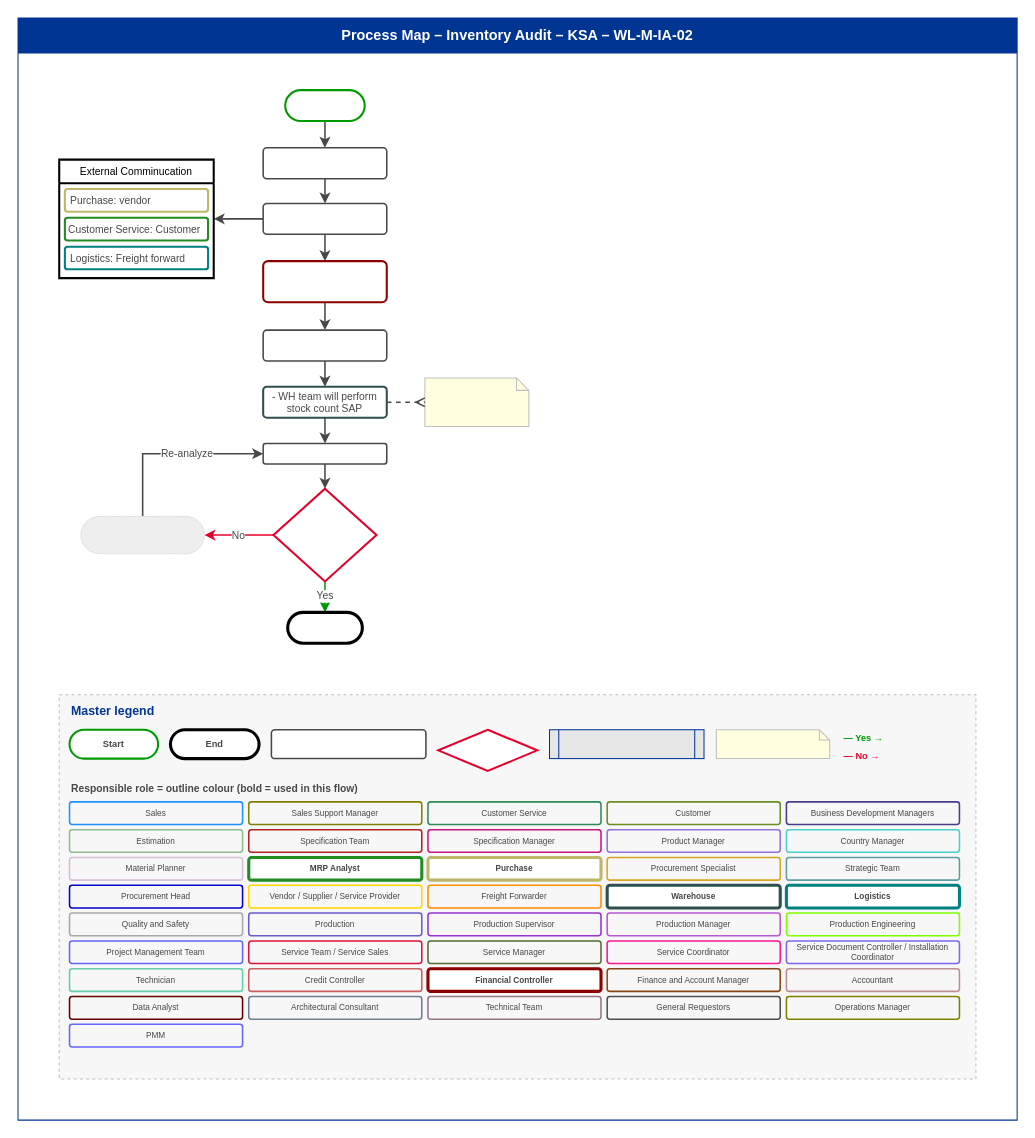
This 1035x1138 diagram has some shape labels left out. The centre of each missing label's shape, as x and y in pixels:
"Activity (outline = role)" belongs at point (348, 744).
"All OK ?" belongs at point (324, 534).
"Analyze the difference" belongs at point (324, 453).
"AUDIT" belongs at point (324, 105).
"CORRECTION Ref S#: WL-S-SC-01" belongs at point (142, 534).
"Decision" belongs at point (487, 749).
"EXIT" belongs at point (324, 627).
"Finance will download Current Stock report & Block all transactions" belongs at point (324, 281).
"Hired External Auditor will perform random checks." belongs at point (476, 401).
"Inventory document is created and printed" belongs at point (324, 345).
"Linked process (Ref ID)" belongs at point (626, 744).
"Note / checklist" belongs at point (772, 744).
"Notify Logistics, CS, Purchase Team" belongs at point (324, 218).
"WH Manager Initiate annual Audit every JUNE" belongs at point (324, 163).
